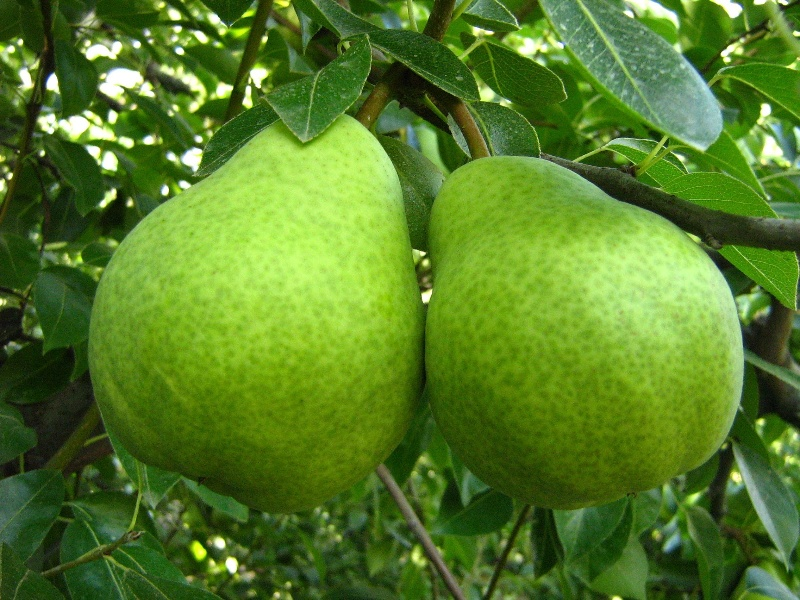Pera: (425, 73, 751, 511), (96, 109, 426, 510)
